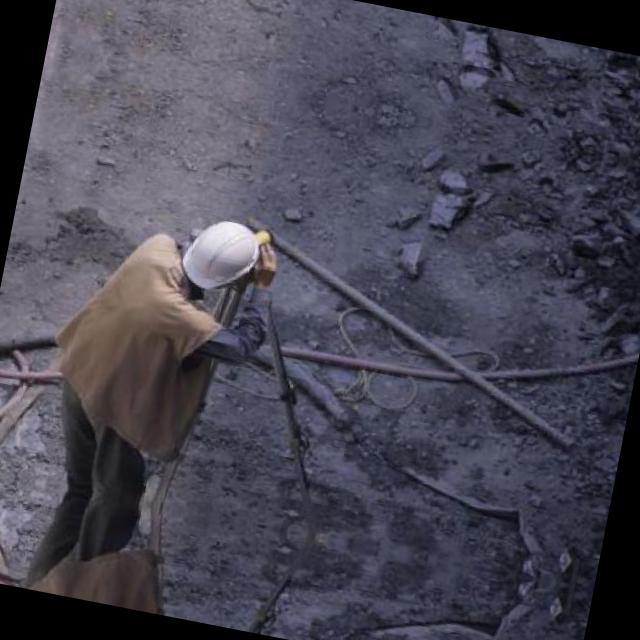helmet: (170, 207, 278, 314)
